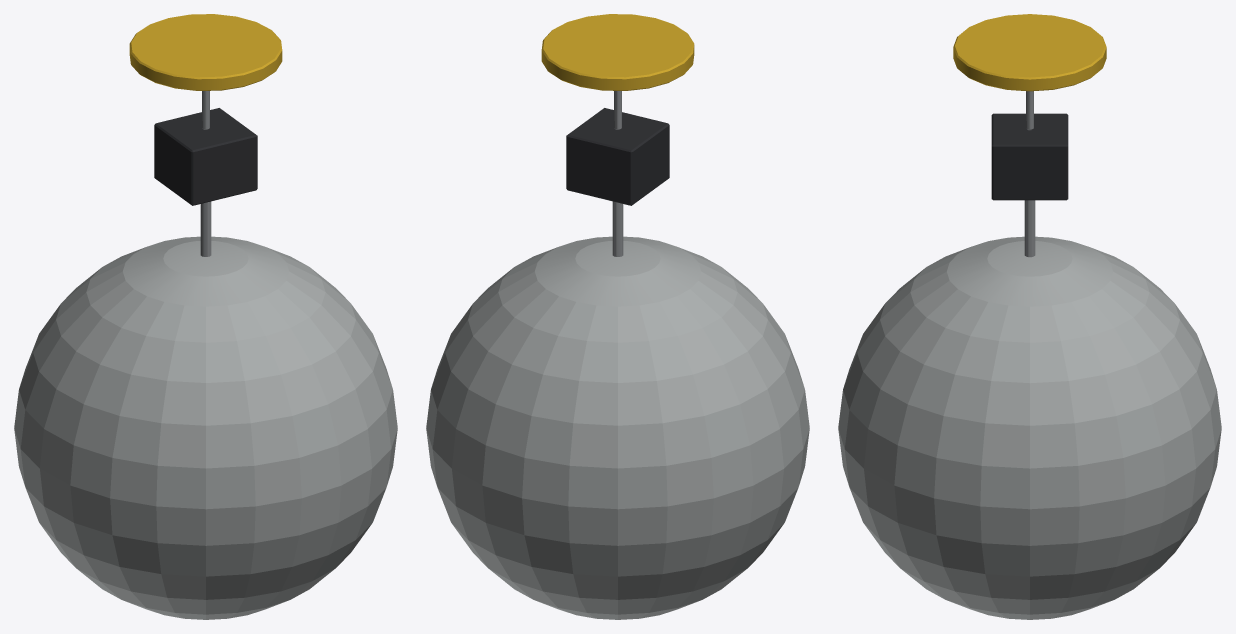
File: prop_ah_mirror_ball.glb
3 views of the same model, side by side, from view 1: azimuth 30°, elevation 25°; view 2: azimuth 150°, elevation 25°; view 3: azimuth 270°, elevation 25° (orthographic).
Visible parts, largest first — view 1: Ball, Body; view 2: Ball, Body; view 3: Ball, Body.
Part boxes in pixels (left/top/right/bottom): Ball: left=14, top=236, right=397, bottom=619; Body: left=129, top=14, right=282, bottom=256; Ball: left=426, top=236, right=809, bottom=619; Body: left=541, top=14, right=694, bottom=256; Ball: left=838, top=236, right=1221, bottom=619; Body: left=953, top=14, right=1106, bottom=257.
Bounding box in the file's own units: 0.5 × 0.8 × 0.5.
